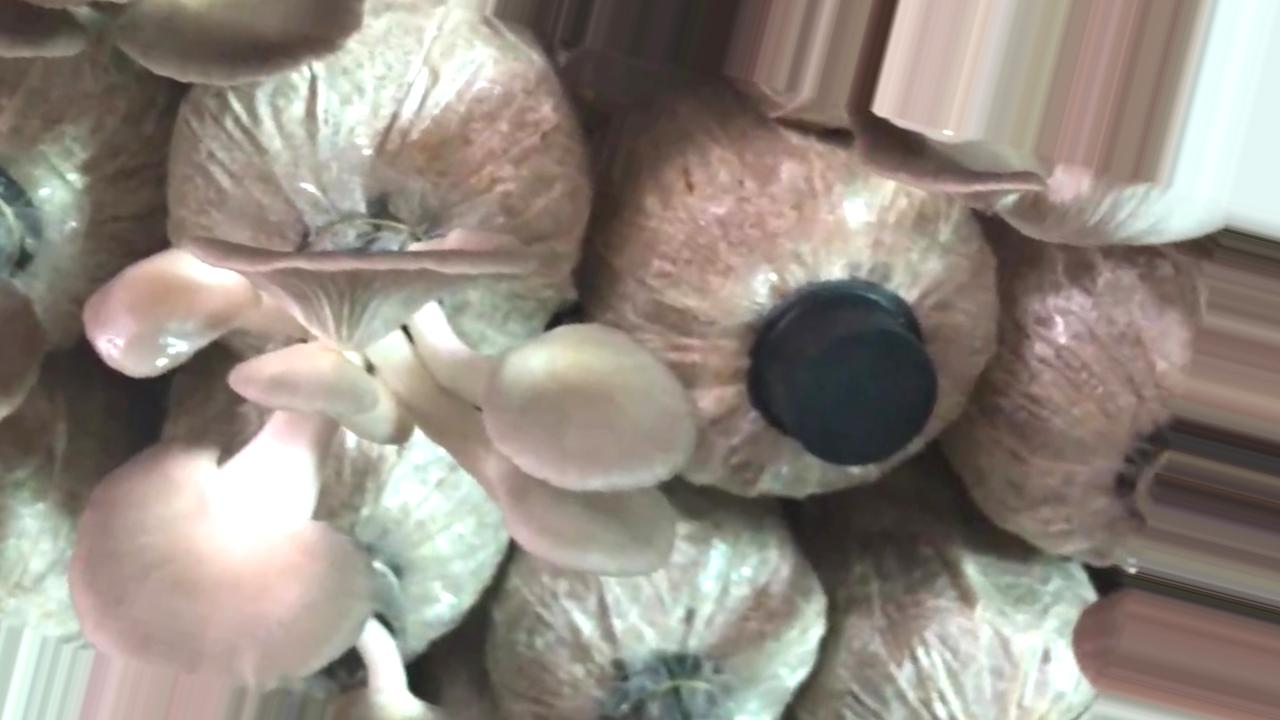nam: (63, 221, 702, 695)
